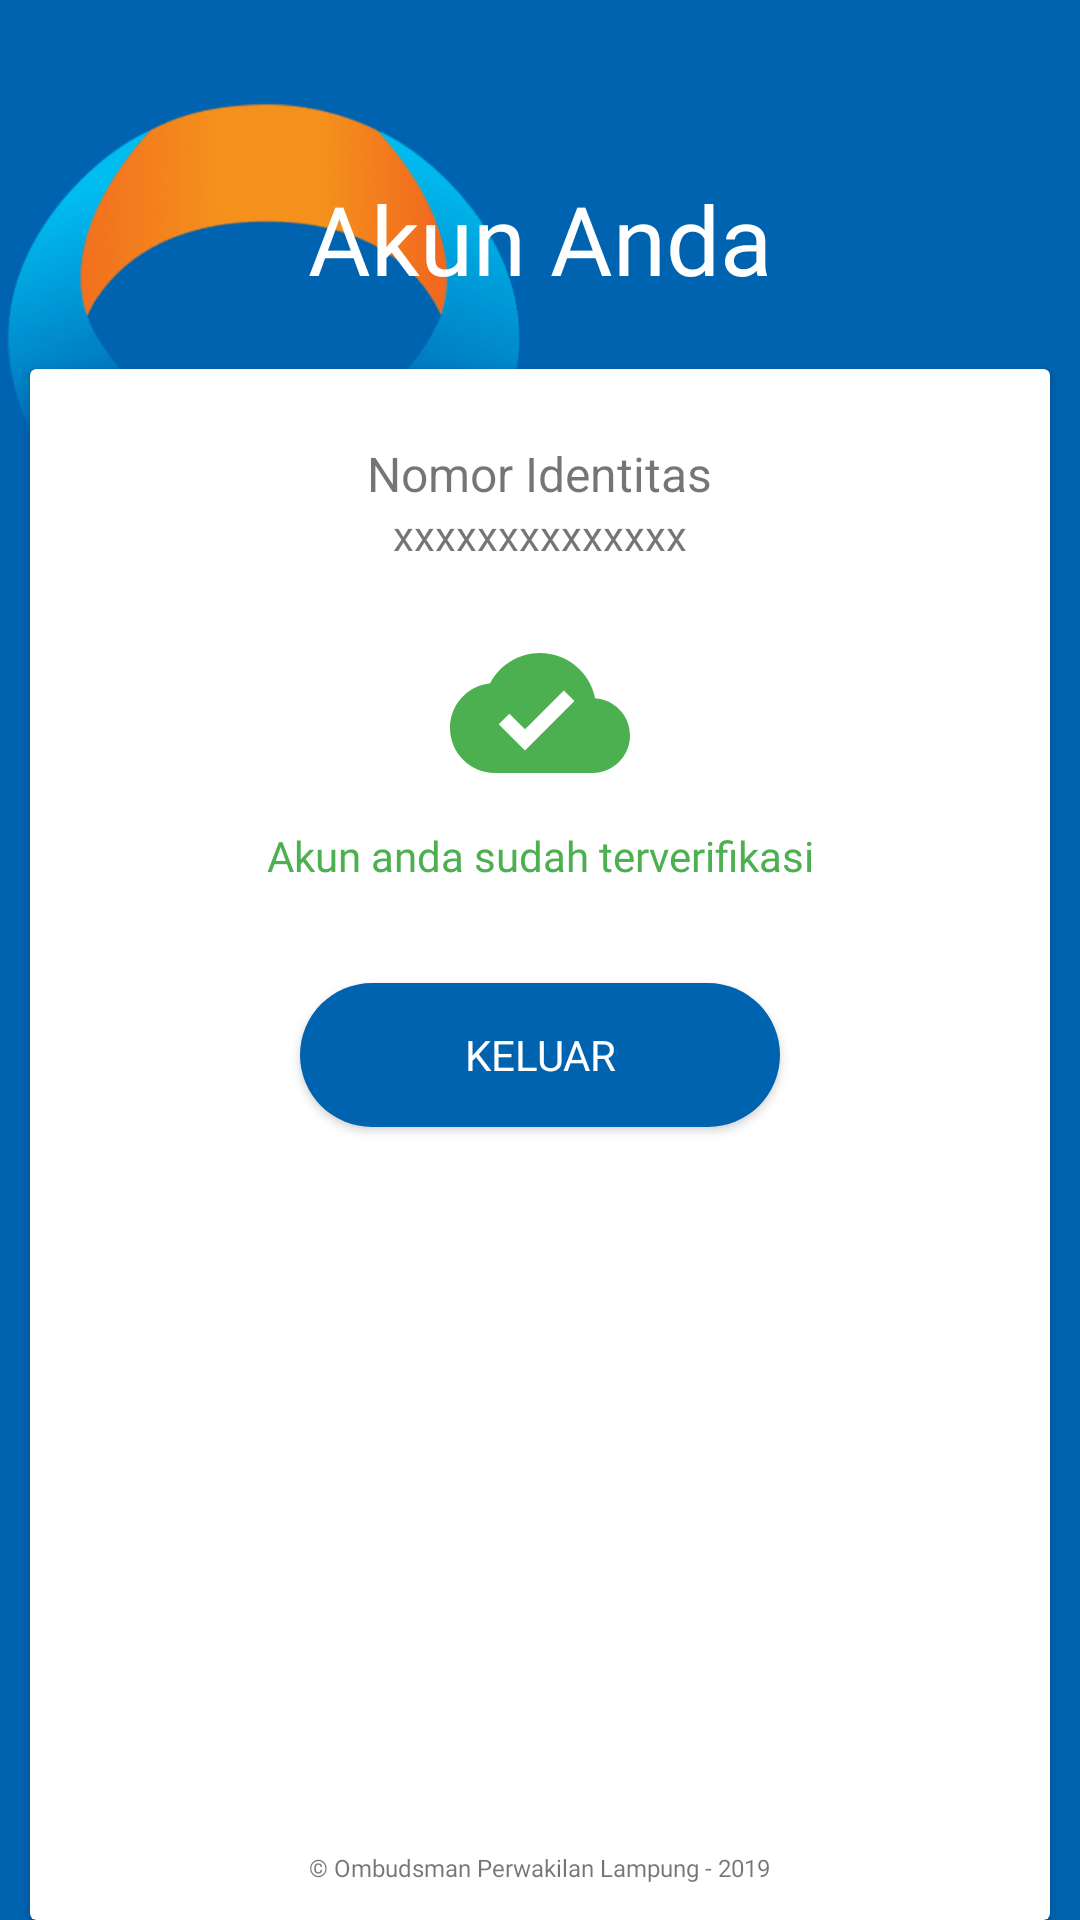

Where to tap for icons on this 1080×1920 app screen, as point (x, y):
cloud done: point (540, 713)
